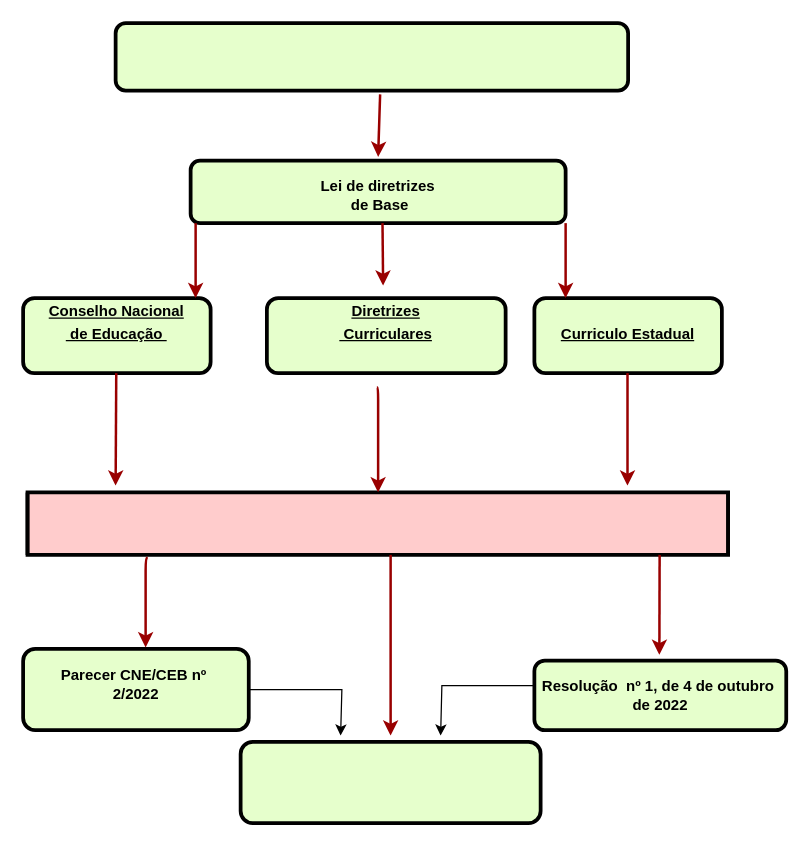
Image size: 810x846. Some labels were removed from this diagram. Each missing label, with the centre of its shape:
BASE NACIONAL COMUM CURRICULAR: the point at 377,523
BCC-COMPUTAÇÃO: the point at 390,781
Constituição Federal de 1988 (art. 205 a 214): the point at 371,56
